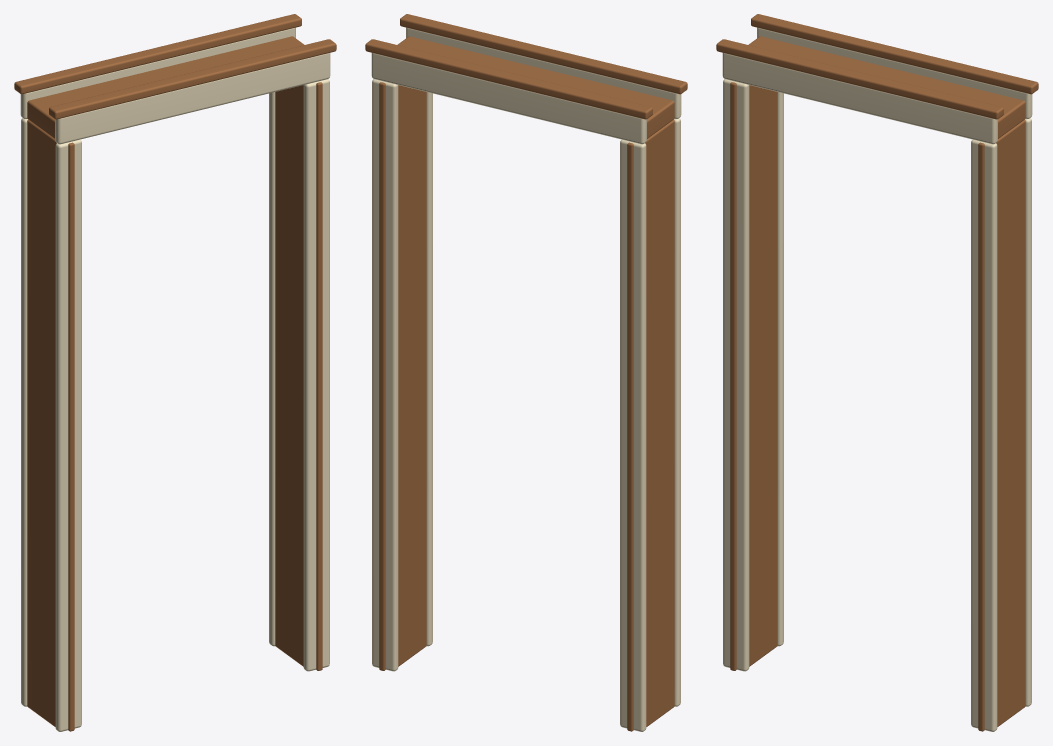
File: door_frame.glb
The picture shows the model from 3 angles, left to right: view 1: azimuth 30°, elevation 25°; view 2: azimuth 150°, elevation 25°; view 3: azimuth 330°, elevation 25°; orthographic projection.
Parts seen in each view (by area): view 1: House07_door_frame; view 2: House07_door_frame; view 3: House07_door_frame.
Boxes of the visible parts, left/top/right/bottom form: House07_door_frame: left=14, top=14, right=336, bottom=731; House07_door_frame: left=365, top=14, right=687, bottom=731; House07_door_frame: left=716, top=14, right=1038, bottom=731.
Bounding box in the file's own units: 1.23 × 2.6 × 0.318.
